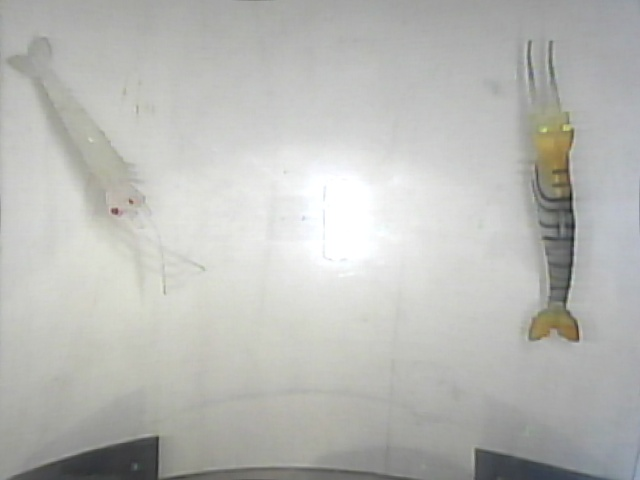top_shrimp: (33, 59, 123, 187), (535, 143, 574, 328)
